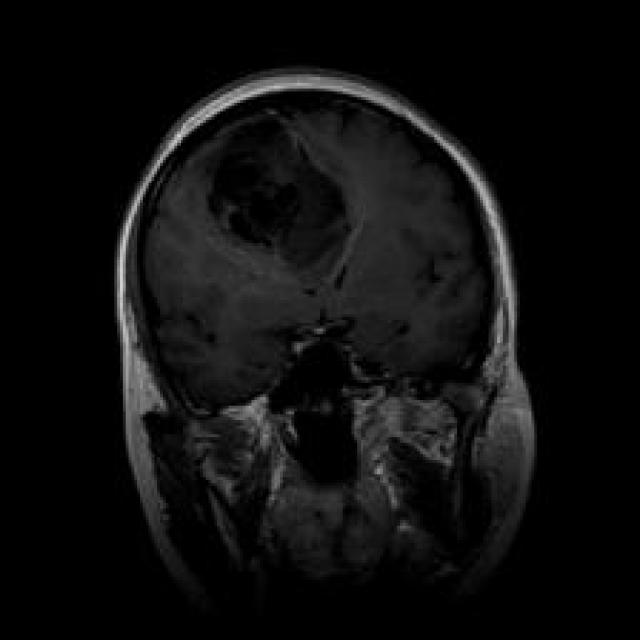glioma_tumor: (177, 85, 380, 313)
